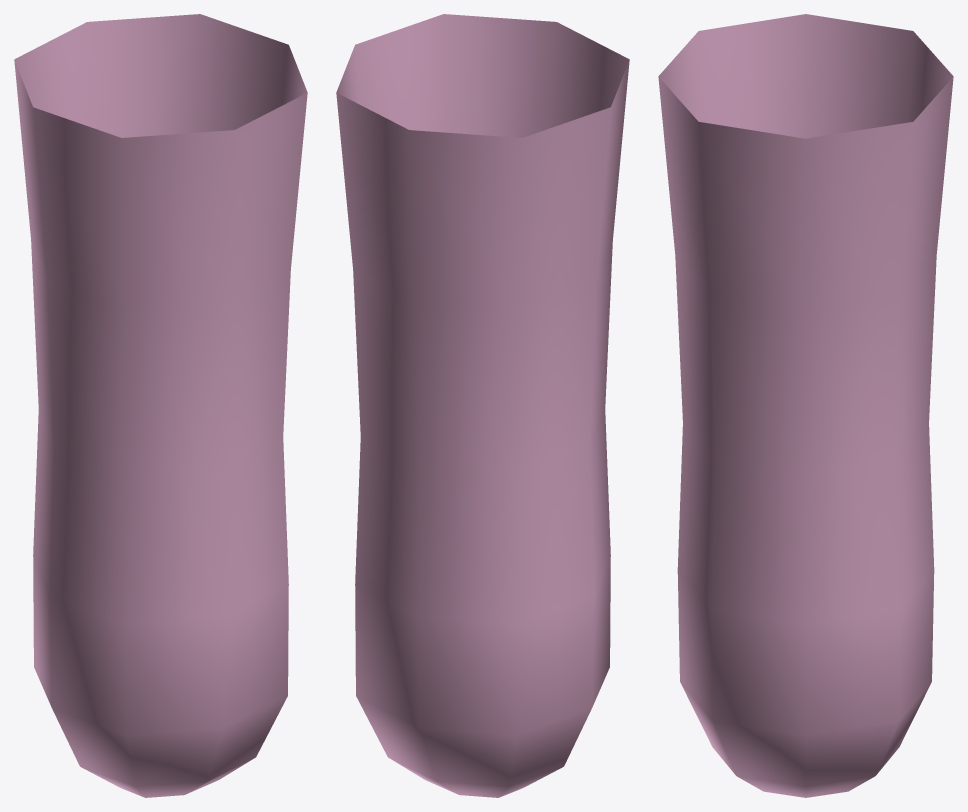
Rendered from udder.glb.
3 renders of one model, left to right at view 1: azimuth 30°, elevation 25°; view 2: azimuth 150°, elevation 25°; view 3: azimuth 270°, elevation 25°, orthographic.
Parts seen in each view (by area): view 1: Cube; view 2: Cube; view 3: Cube.
Part boxes in pixels (bbox=[...]): Cube: bbox=[14, 14, 307, 797]; Cube: bbox=[336, 14, 629, 797]; Cube: bbox=[658, 14, 953, 797].
Bounding box in the file's own units: 0.744 × 1.98 × 0.744.
